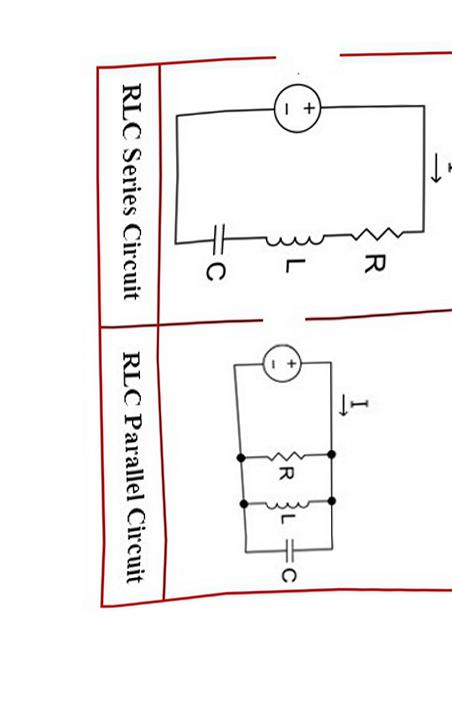Battery: (254, 67, 331, 150), (242, 321, 308, 408)
